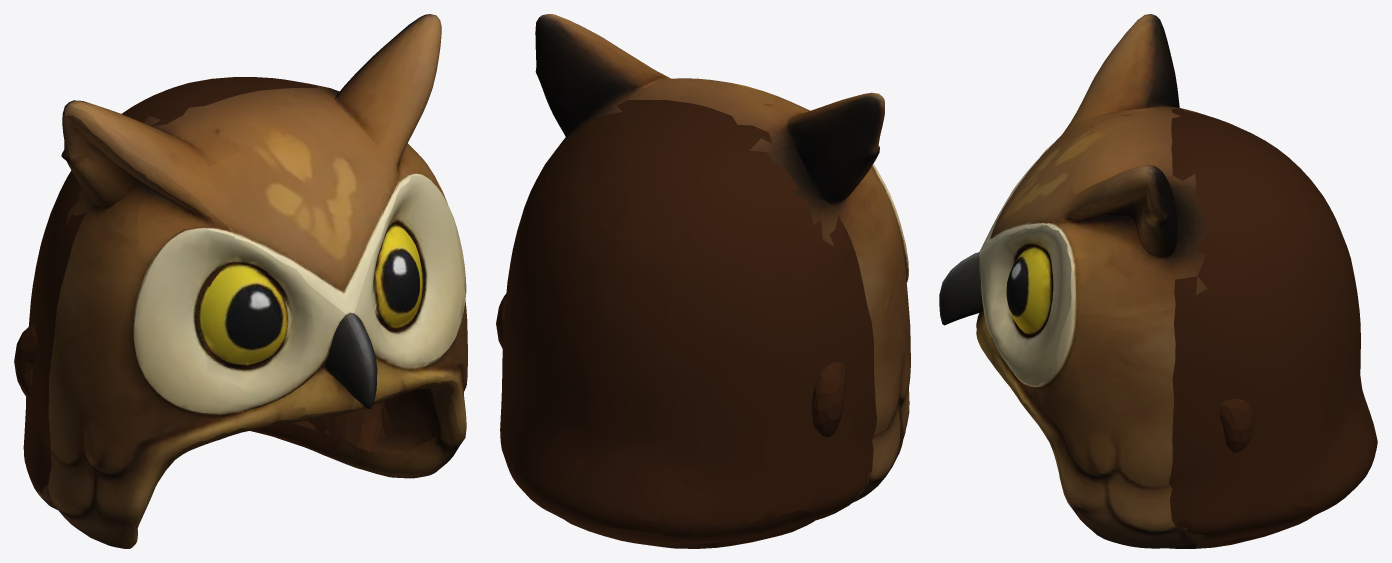
File: owl.glb
The picture shows the model from 3 angles, left to right: view 1: azimuth 30°, elevation 25°; view 2: azimuth 150°, elevation 25°; view 3: azimuth 270°, elevation 25°; orthographic projection. The views are drawn at different scales.
Visible parts, largest first — view 1: geometry_0, HoodAnatomicalLining; view 2: geometry_0, HoodAnatomicalLining; view 3: geometry_0, HoodAnatomicalLining.
Boxes of the visible parts, bbox=[...] form: geometry_0: bbox=[23, 14, 467, 548]; HoodAnatomicalLining: bbox=[14, 268, 396, 452]; geometry_0: bbox=[500, 14, 910, 548]; HoodAnatomicalLining: bbox=[496, 294, 846, 437]; geometry_0: bbox=[939, 14, 1377, 548]; HoodAnatomicalLining: bbox=[1219, 398, 1253, 452].
Size of the model in its own units: 0.4749 by 0.5389 by 0.5328.
2 materials, 1 textured.
